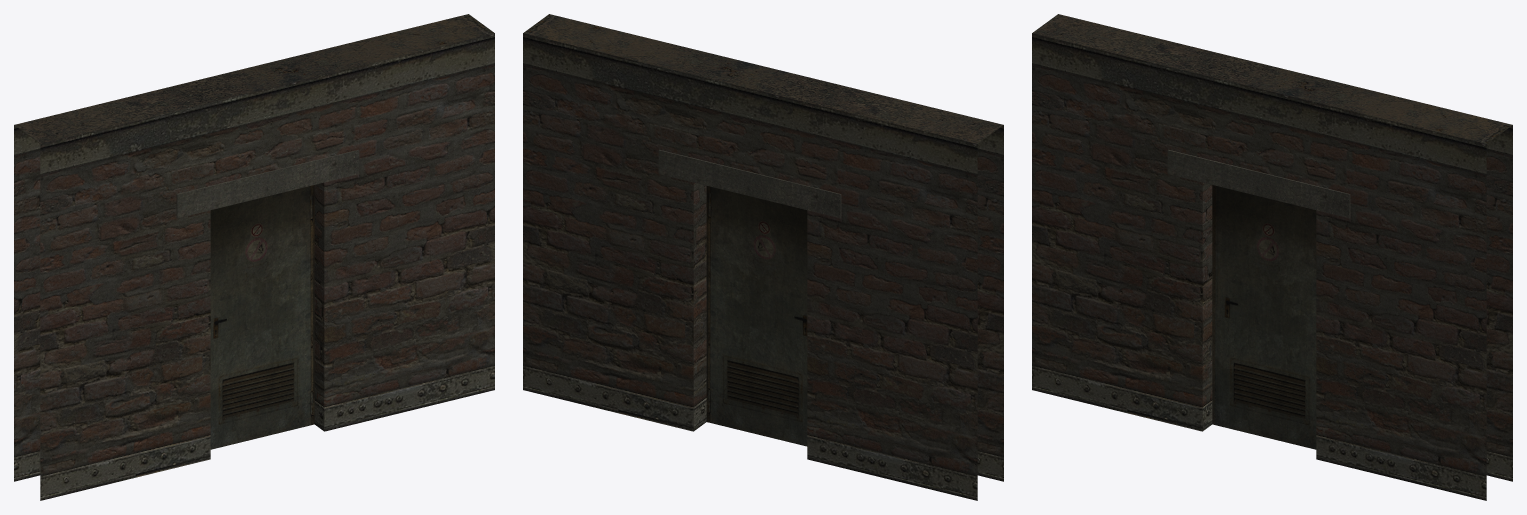
Rendered from doorway_hr_1.obj.
The picture shows the model from 3 angles, left to right: view 1: azimuth 30°, elevation 25°; view 2: azimuth 150°, elevation 25°; view 3: azimuth 330°, elevation 25°; orthographic projection.
Parts seen in each view (by area): view 1: doorway_hr_1, metal_door_1; view 2: doorway_hr_1, metal_door_1; view 3: doorway_hr_1, metal_door_1.
Part boxes in pixels (x1,y1,x2,y2): doorway_hr_1: [14, 14, 494, 500]; metal_door_1: [210, 185, 314, 449]; doorway_hr_1: [523, 14, 1003, 500]; metal_door_1: [706, 186, 807, 446]; doorway_hr_1: [1032, 14, 1512, 500]; metal_door_1: [1212, 185, 1316, 449].
Bounding box in the file's own units: 4 × 3 × 0.42.
